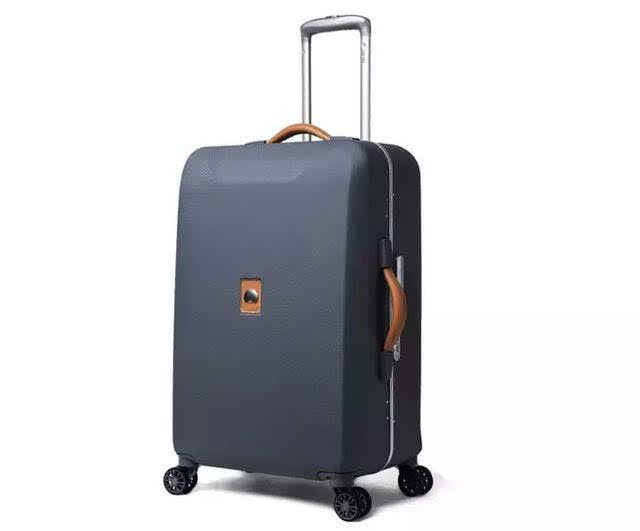suitcase: (163, 12, 436, 524)
